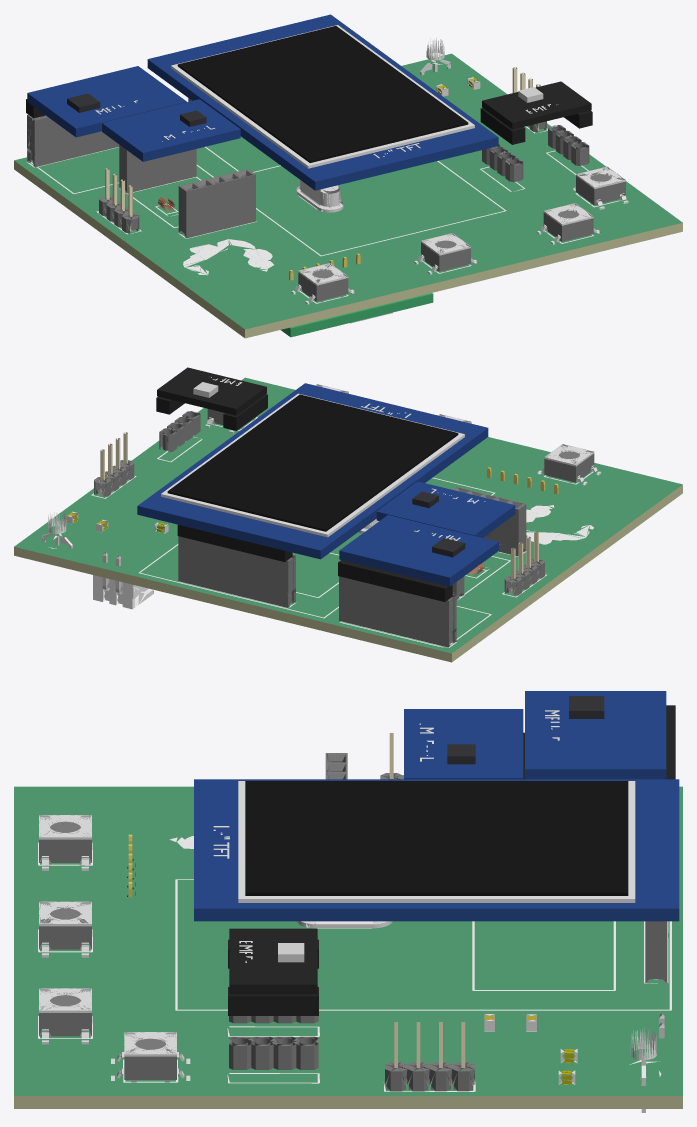
Rendered from at32_watch.glb.
3 renders of one model, top to bottom at view 1: azimuth 30°, elevation 25°; view 2: azimuth 150°, elevation 25°; view 3: azimuth 270°, elevation 25°, orthographic. The views are drawn at different scales.
Visible parts, largest first — view 1: PCB, TFT_GLASS, TFT_PCB, MPU_PCB, QMC_PCB, BMP_PCB, TFT_BEZEL, BLE_PCB, BMP_HDR_24; view 2: PCB, TFT_GLASS, TFT_PCB, MPU_PCB, QMC_PCB, BMP_PCB, TFT_BEZEL, MPU_HDR, TFT_HDR, BMP_HDR_24, MPU_CHIP; view 3: PCB, TFT_GLASS, TFT_PCB, MPU_PCB, QMC_PCB, BMP_PCB, TFT_BEZEL, BMP_HDR_37, MPU_CHIP, MPU_HDR.
Boxes of the visible parts, x1,y1,x2,y2 form: PCB: [14, 38, 682, 338]; TFT_GLASS: [177, 26, 468, 162]; TFT_PCB: [147, 14, 498, 190]; MPU_PCB: [27, 66, 186, 137]; QMC_PCB: [102, 99, 240, 161]; BMP_PCB: [482, 81, 591, 129]; TFT_BEZEL: [171, 25, 474, 168]; BLE_PCB: [281, 293, 433, 337]; BMP_HDR_24: [480, 108, 525, 144]; PCB: [14, 377, 682, 662]; TFT_GLASS: [167, 394, 458, 531]; TFT_PCB: [137, 383, 488, 559]; MPU_PCB: [339, 515, 498, 586]; QMC_PCB: [376, 481, 515, 537]; BMP_PCB: [157, 367, 266, 415]; TFT_BEZEL: [161, 393, 464, 537]; MPU_HDR: [338, 560, 452, 601]; TFT_HDR: [177, 524, 292, 561]; BMP_HDR_24: [223, 394, 267, 430]; MPU_CHIP: [432, 538, 465, 557]; PCB: [14, 733, 682, 1112]; TFT_GLASS: [245, 781, 628, 895]; TFT_PCB: [194, 779, 679, 921]; MPU_PCB: [525, 691, 666, 779]; QMC_PCB: [404, 709, 523, 779]; BMP_PCB: [229, 928, 317, 994]; TFT_BEZEL: [238, 781, 635, 902]; BMP_HDR_37: [228, 987, 318, 1015]; MPU_CHIP: [569, 696, 604, 718]; MPU_HDR: [666, 705, 675, 779].
Size of the model in its own units: 0.0829 by 0.0212 by 0.0758.
